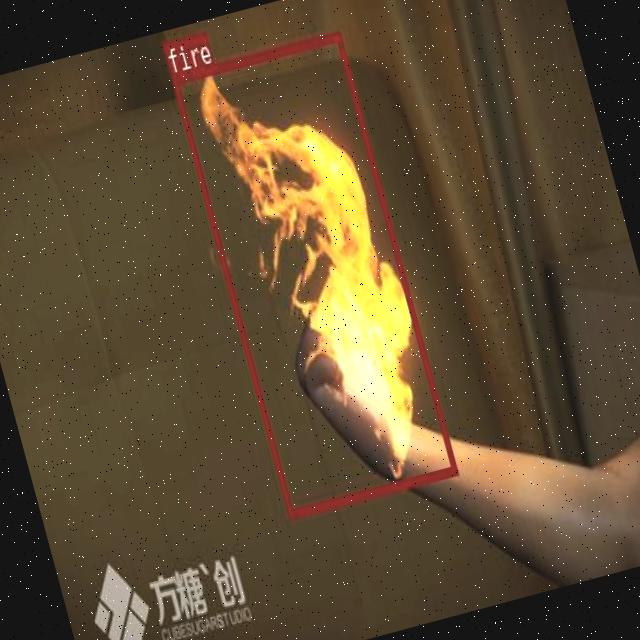fire: (170, 29, 456, 517)
